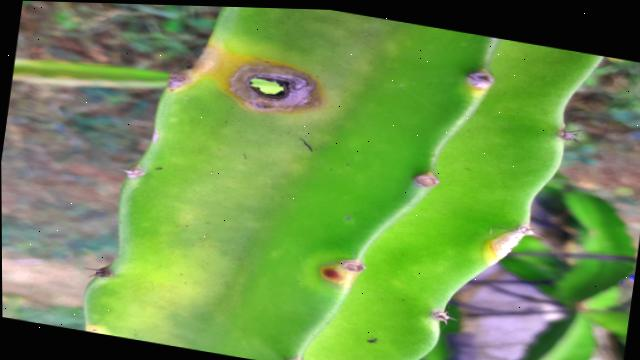stemcanker: (308, 260, 348, 291)
